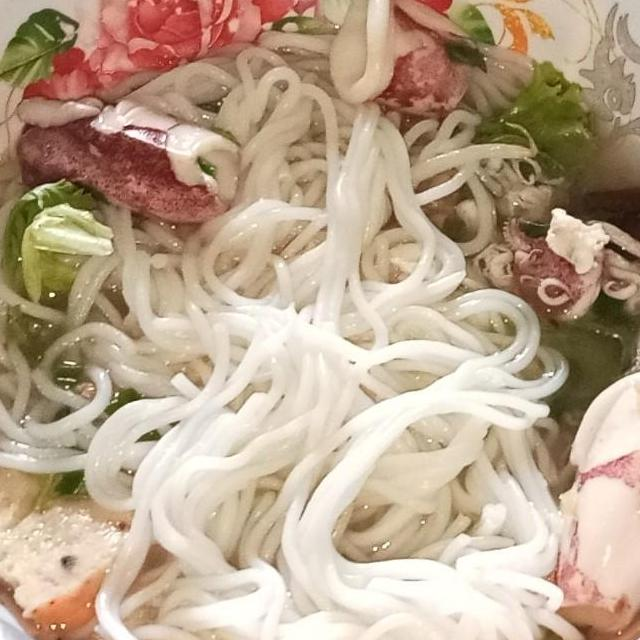bun: (60, 302, 592, 640), (107, 13, 540, 324), (0, 155, 234, 495)
muc: (7, 87, 246, 226), (468, 204, 640, 393), (541, 363, 640, 640), (320, 0, 485, 126)
